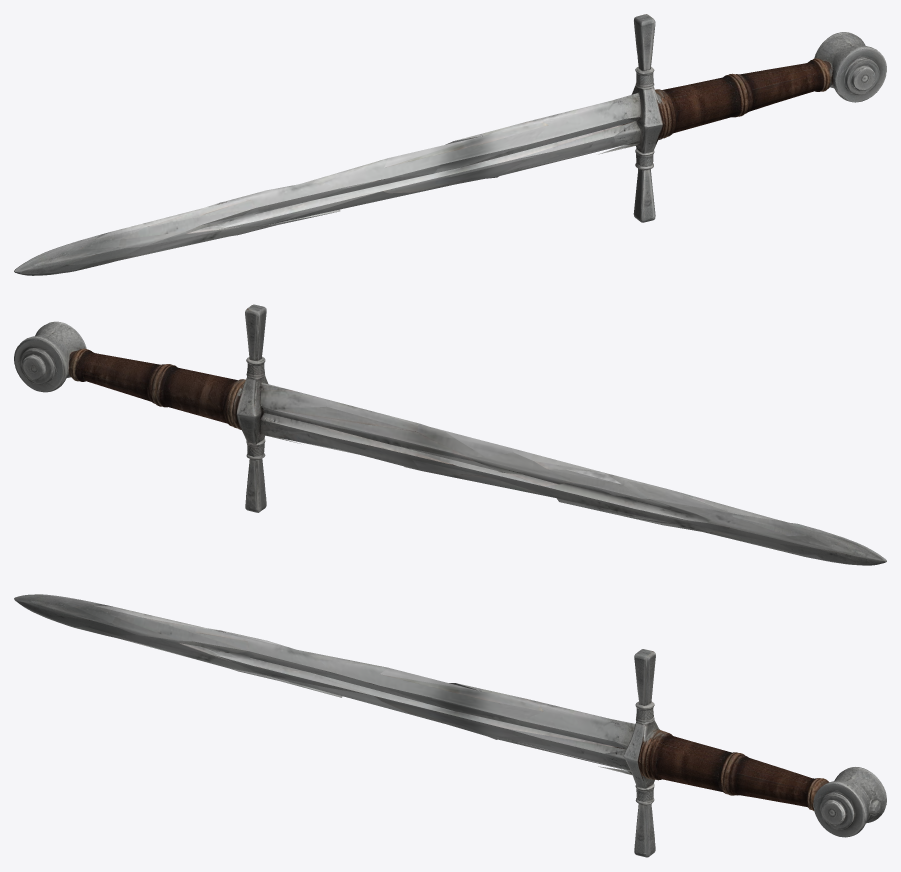
Rendered from sword.glb.
The picture shows the model from 3 angles, top to bottom: view 1: azimuth 30°, elevation 25°; view 2: azimuth 150°, elevation 25°; view 3: azimuth 330°, elevation 25°; orthographic projection.
Visible parts, largest first — view 1: Mesh_0; view 2: Mesh_0; view 3: Mesh_0.
Boxes of the visible parts, box(x1,y1,x2,y2) form: Mesh_0: box(14, 14, 886, 275); Mesh_0: box(14, 304, 886, 565); Mesh_0: box(14, 594, 886, 857).
Bounding box in the file's own units: 1.9 × 0.4237 × 0.1255.
Materials: 1 (1 with a texture image).
